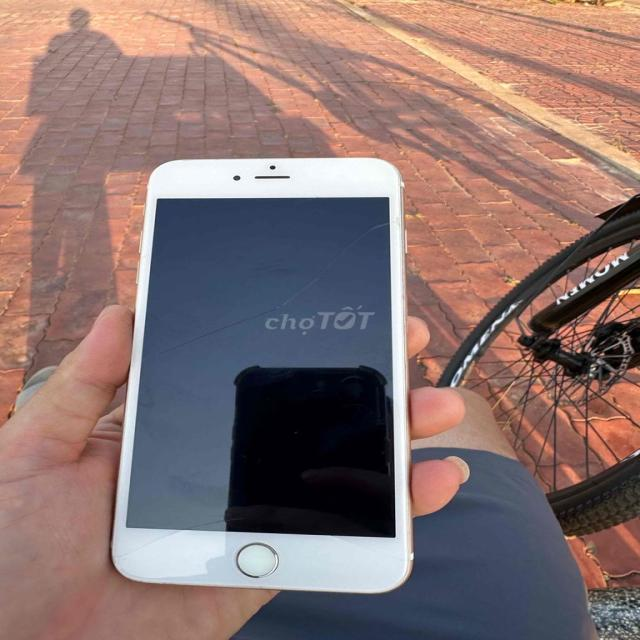gen_6: (111, 158, 412, 604)
screen_defect: (130, 219, 397, 371)
